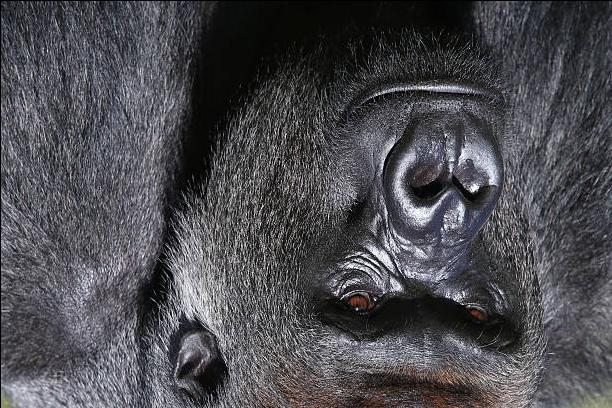gorille_Autres: (0, 4, 608, 404)
